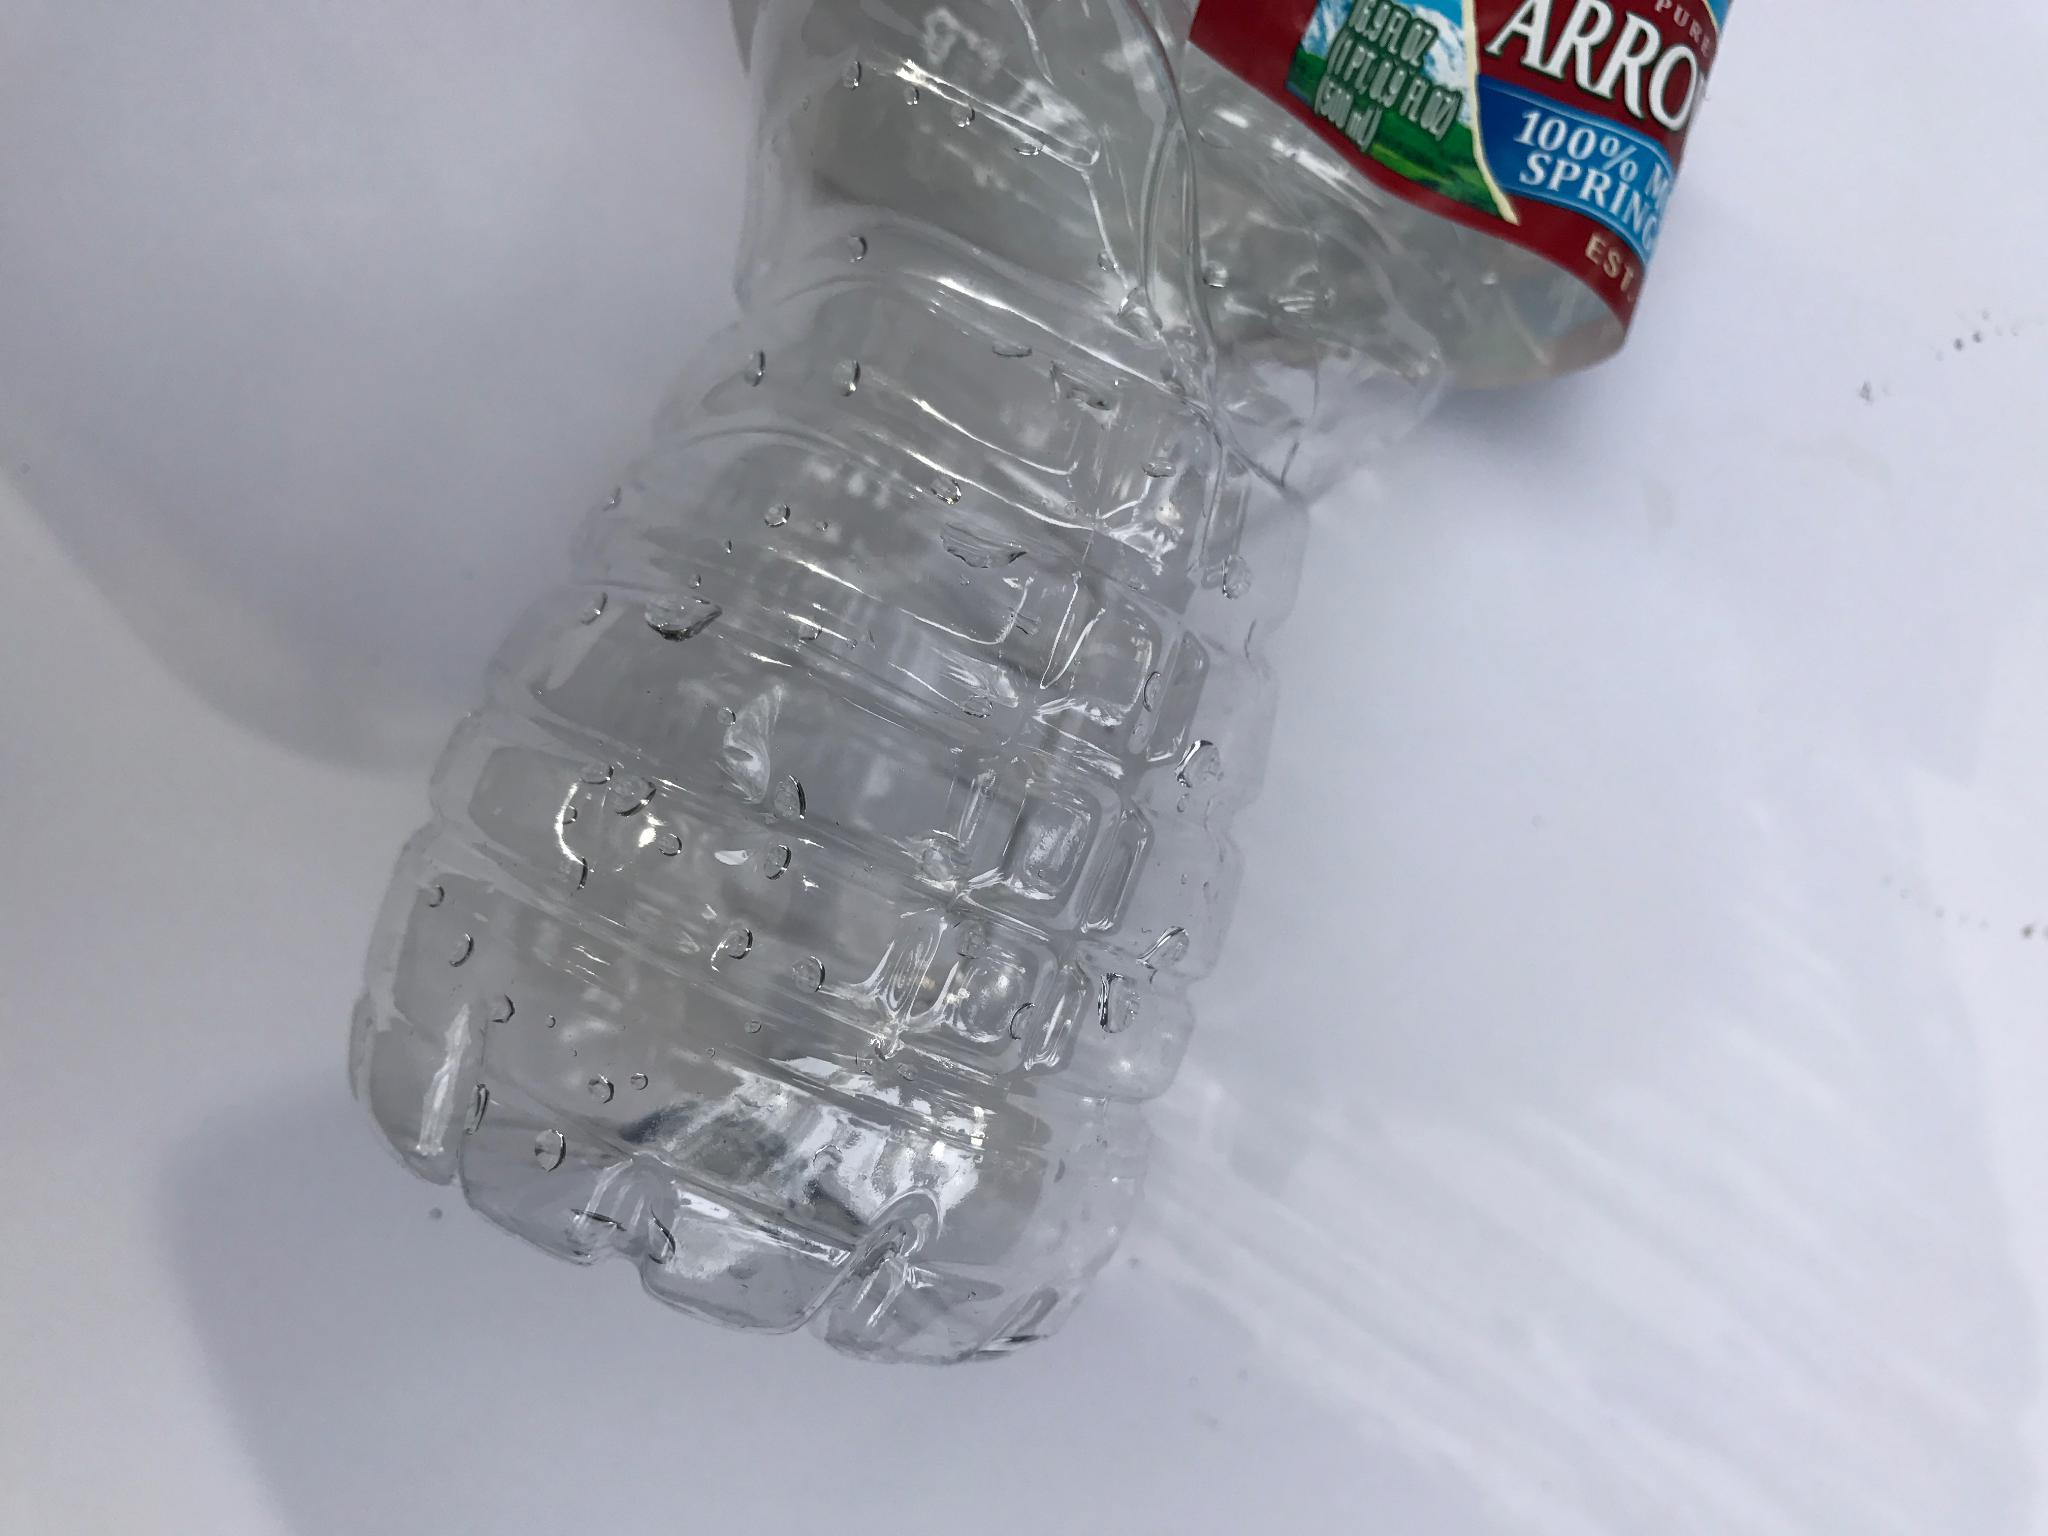Plastic: (332, 0, 1748, 1412)
